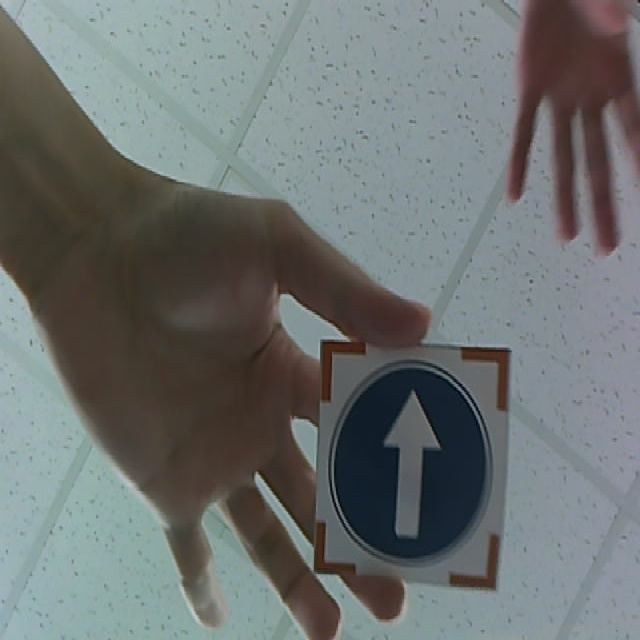straight: (311, 339, 511, 594)
